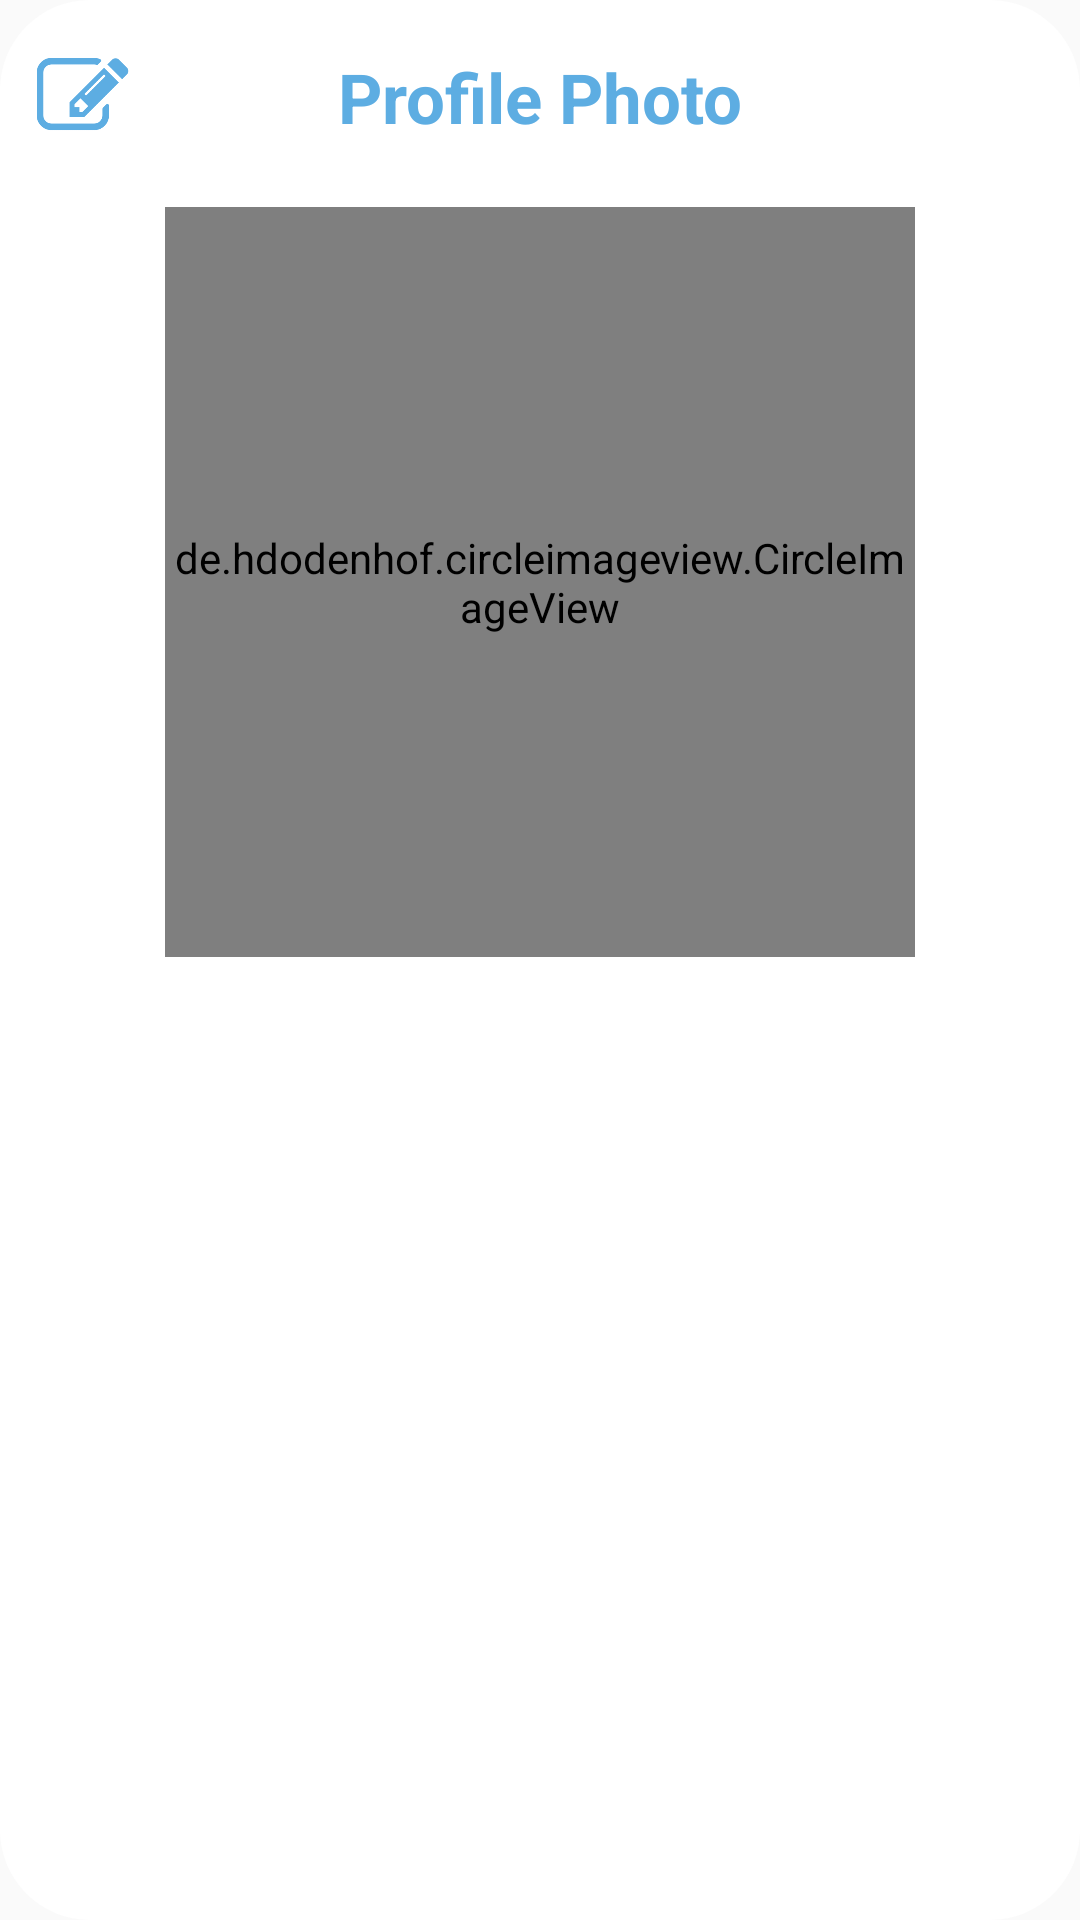

Where to tap for icons on this 1080×1920 app screen, as (x,y):
edit: (83,94)
